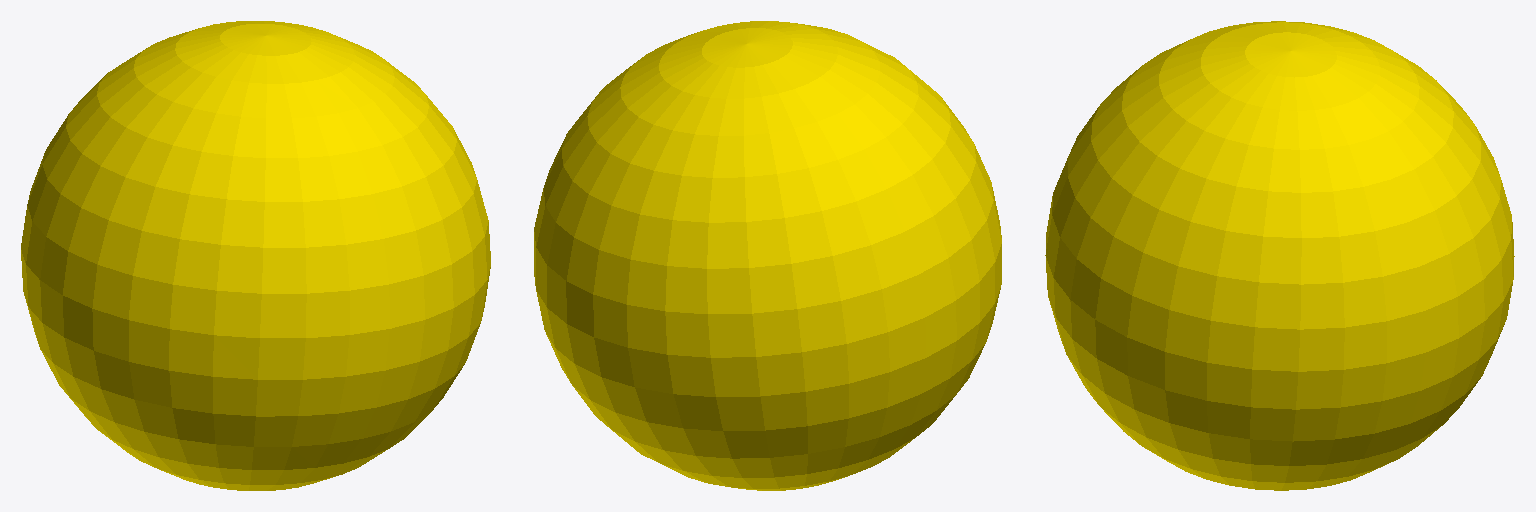
3 renders of one model, left to right at view 1: azimuth 30°, elevation 25°; view 2: azimuth 150°, elevation 25°; view 3: azimuth 270°, elevation 25°, orthographic.
Parts seen in each view (by area): view 1: Sphere; view 2: Sphere; view 3: Sphere.
Boxes of the visible parts, <box> form: Sphere: <box>21,21,490,490</box>; Sphere: <box>534,21,1001,490</box>; Sphere: <box>1045,21,1514,490</box>.
Bounding box in the file's own units: 0.1197 × 0.12 × 0.12.
Materials: 1 (1 with a texture image).